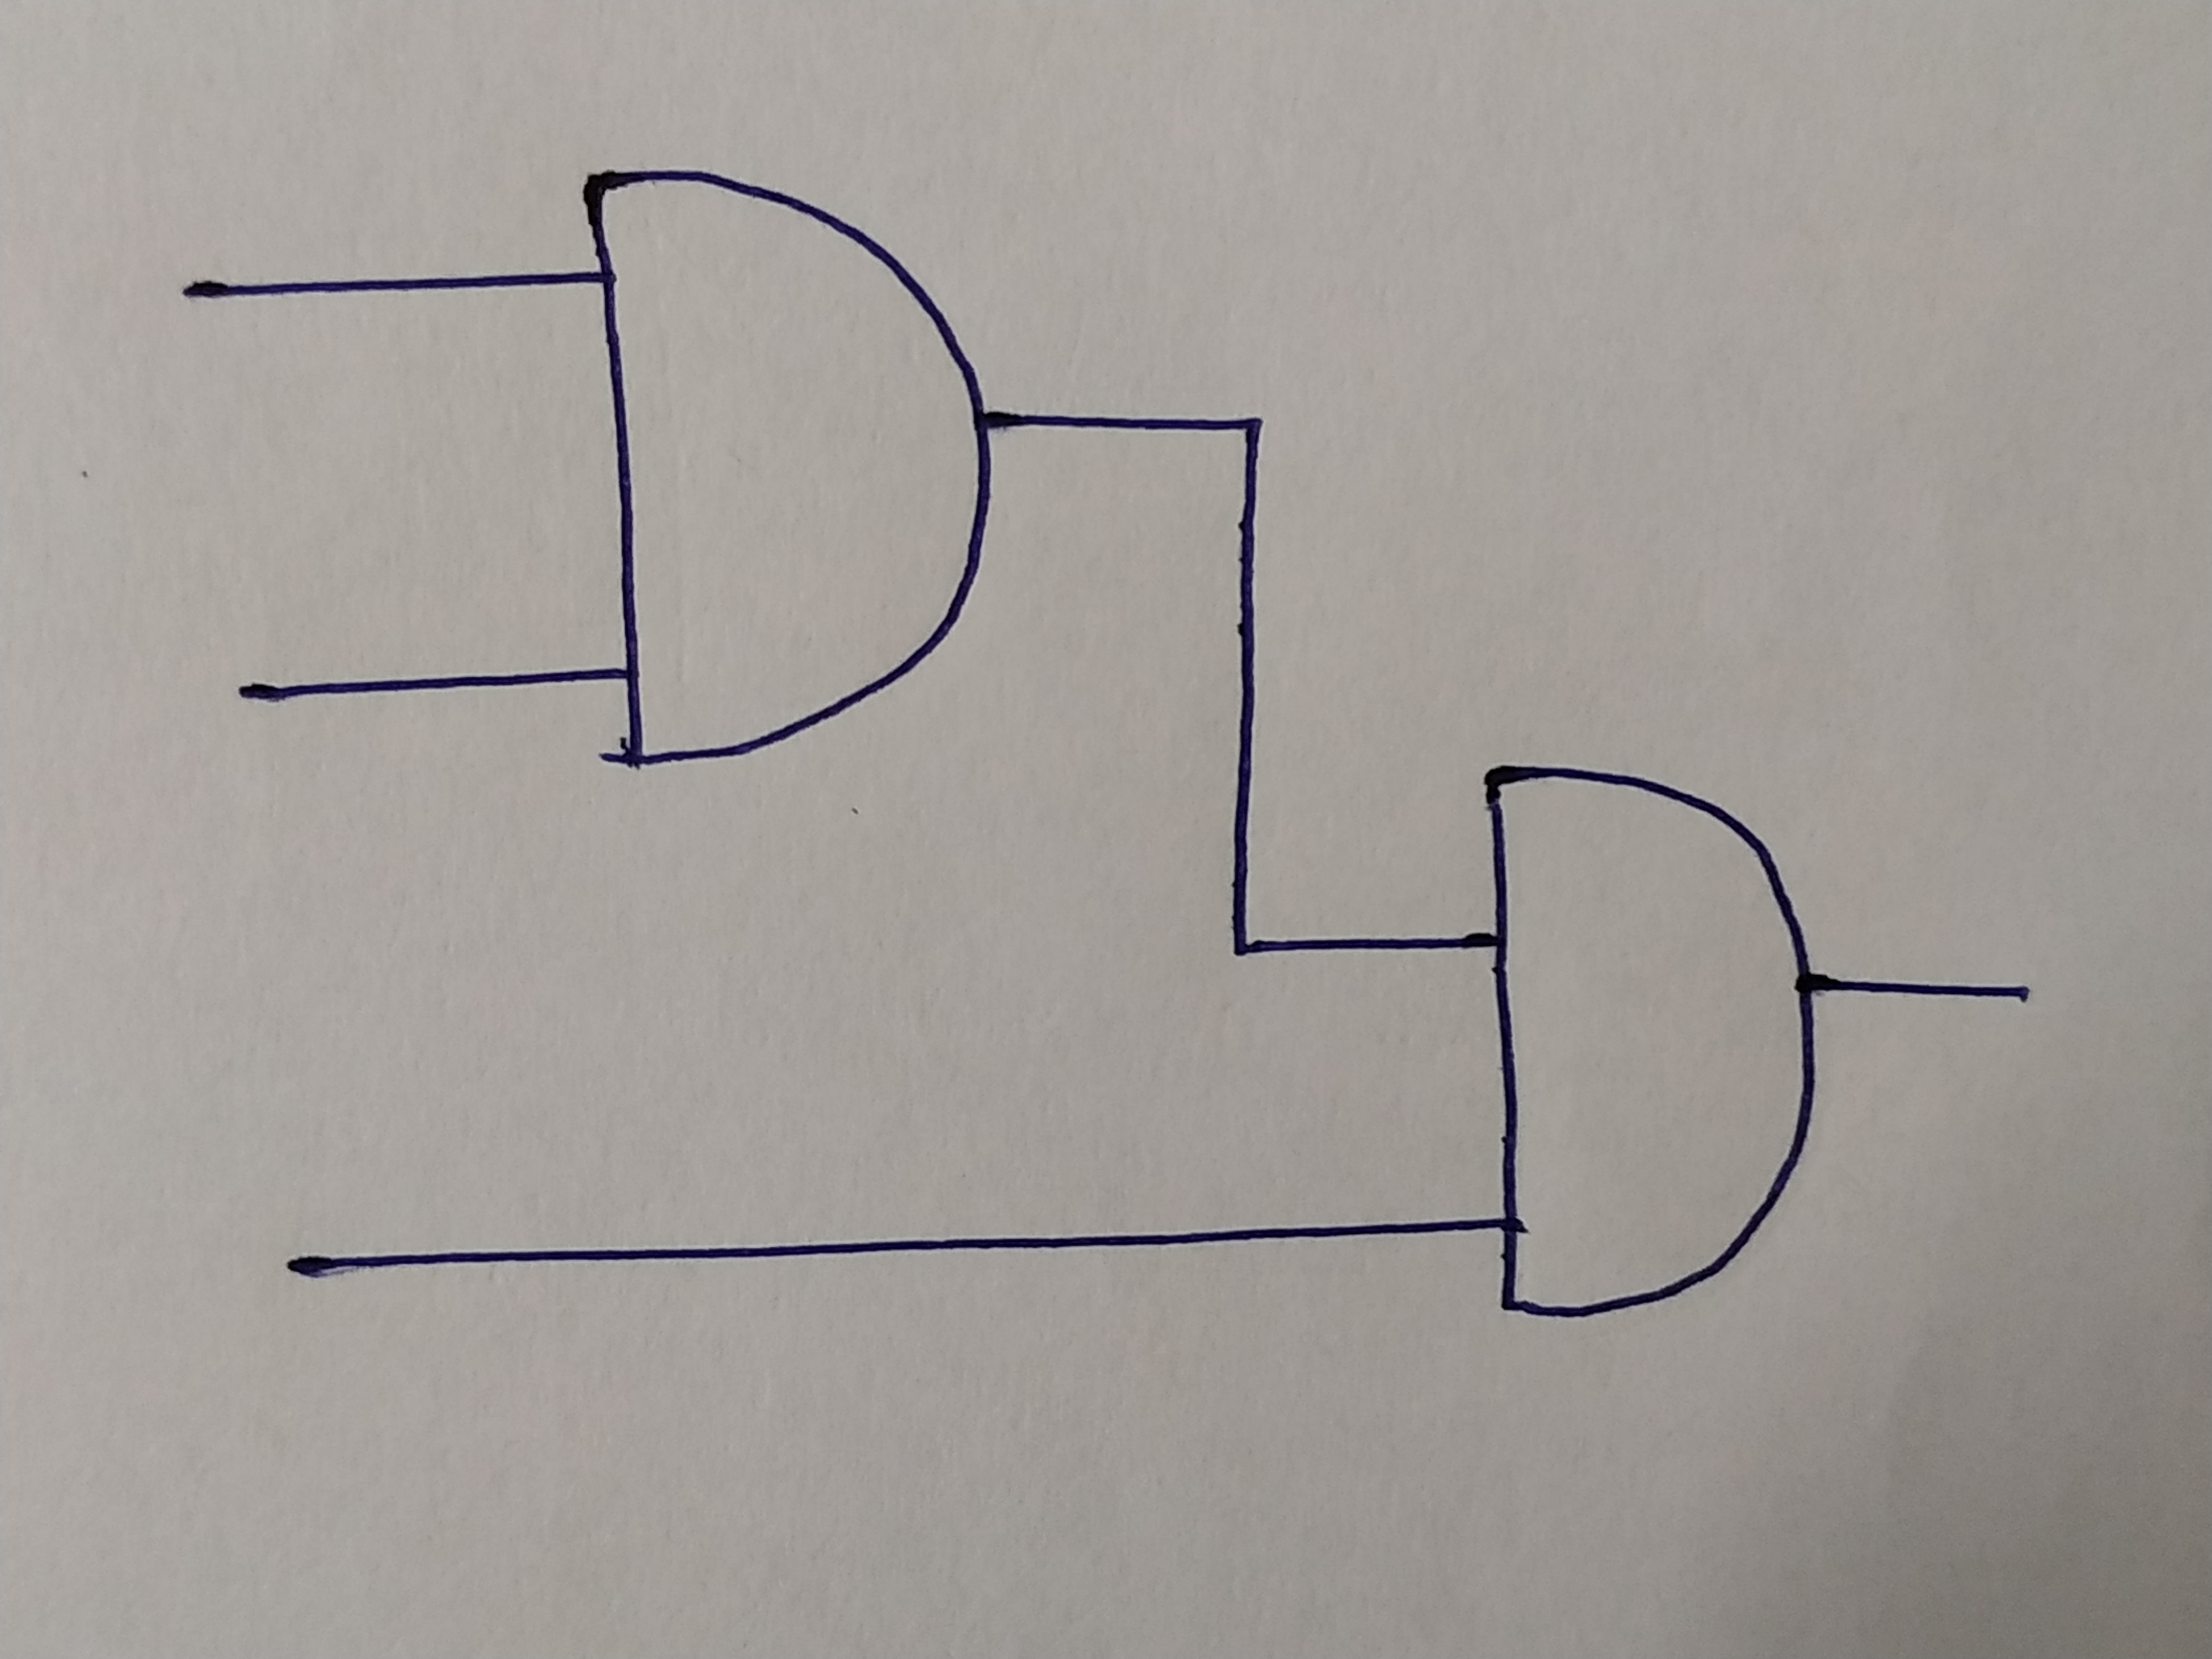and: (590, 164, 982, 770), (1489, 762, 1810, 1323)
